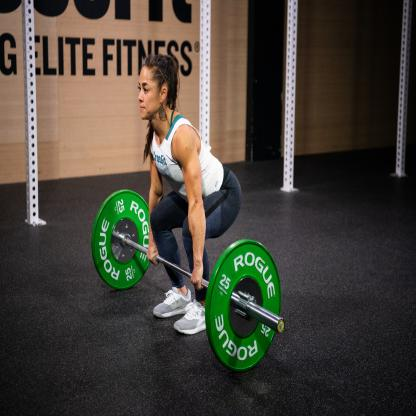barbell: (209, 240, 283, 374), (94, 189, 157, 293)
